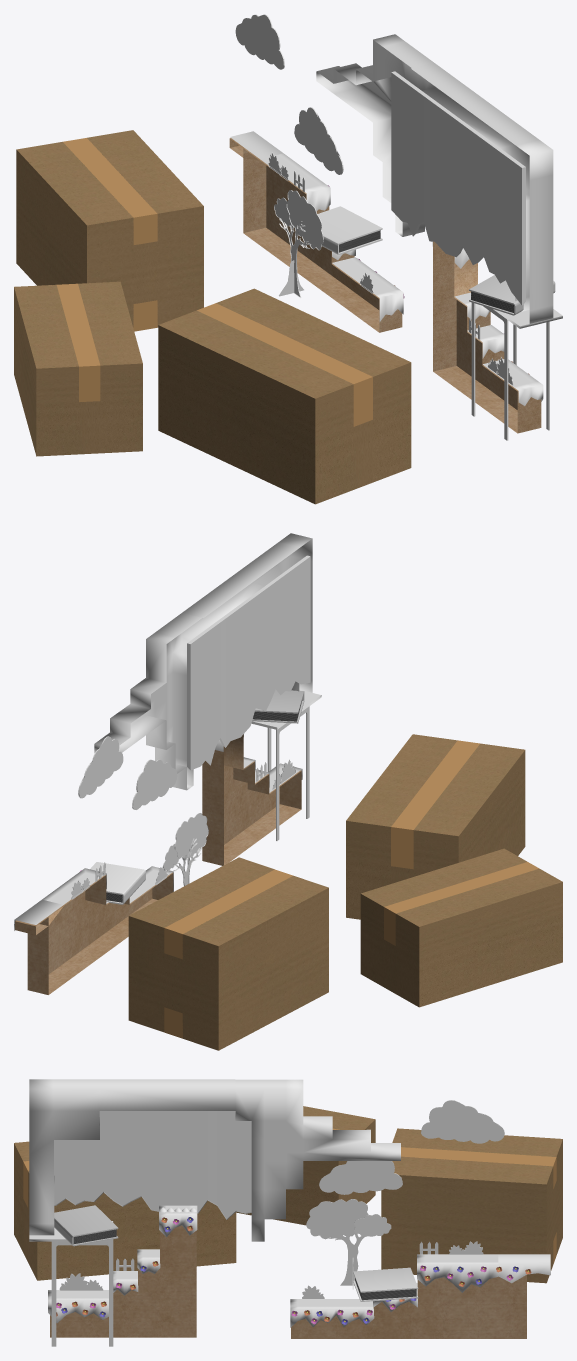
File: Pantalla-5DEF.fbx
3 renders of one model, top to bottom at view 1: azimuth 30°, elevation 25°; view 2: azimuth 150°, elevation 25°; view 3: azimuth 270°, elevation 25°, orthographic. The views are drawn at different scales.
Parts seen in each view (by area): view 1: Cube, Caja_1, Cube.001, Plane, pantalla5.002, pantalla5.003, pantalla5.001, pantalla5, Book.003, Nube.002, Nube.003, Arbol2.001 (+2 smaller); view 2: Caja_1, Cube.001, Cube, Plane, pantalla5.002, pantalla5.003, pantalla5.001, pantalla5, Nube.003, Nube.002, Arbol2.001, Book.003 (+1 smaller); view 3: pantalla5.003, Caja_1, Plane, pantalla5.002, Cube, pantalla5.001, Cube.001, Arbol2.001, Nube.003, Nube.002, Book.003, Book.005 (+4 smaller).
Part boxes in pixels (x1,y1,x2,y2): Cube: (158,288,411,504); Caja_1: (16,130,203,331); Cube.001: (14,281,142,456); Plane: (391,71,525,305); pantalla5.002: (229,138,541,433); pantalla5.003: (316,34,553,323); pantalla5.001: (230,131,543,405); pantalla5: (471,302,562,440); Book.003: (317,206,382,254); Nube.002: (294,107,343,174); Nube.003: (235,14,284,69); Arbol2.001: (274,190,323,250); Caja_1: (128,857,328,1050); Cube.001: (360,848,562,1007); Cube: (346,734,525,919); Plane: (187,555,310,770); pantalla5.002: (15,734,301,994); pantalla5.003: (94,533,312,790); pantalla5.001: (14,734,302,930); pantalla5: (251,689,321,840); Nube.003: (78,736,123,798); Nube.002: (132,759,177,809); Arbol2.001: (163,813,208,871); Book.003: (90,862,145,904); pantalla5.003: (29,1079,400,1241); Caja_1: (381,1128,562,1283); Plane: (54,1111,251,1219); pantalla5.002: (50,1225,538,1338); Cube: (14,1141,236,1280); pantalla5.001: (48,1205,550,1327); Cube.001: (236,1106,375,1225); Arbol2.001: (306,1199,391,1239); Nube.003: (421,1100,504,1143); Nube.002: (319,1161,402,1194); Book.003: (353,1267,418,1301); Book.005: (54,1205,118,1246).
Size of the model in its own units: 7490 by 4825 by 9474.
